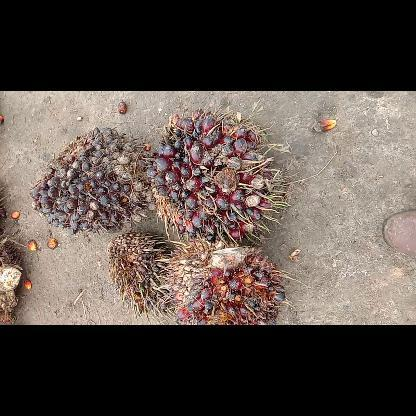Kurang masak: (152, 110, 280, 240), (29, 126, 147, 234)
TBS abnormal: (106, 233, 180, 315)
TBS masak: (167, 244, 286, 324)
